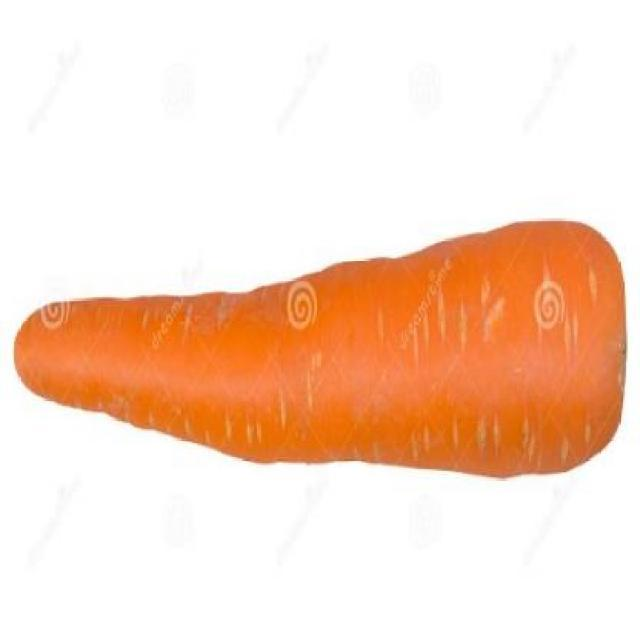carrot: (6, 206, 630, 510)
